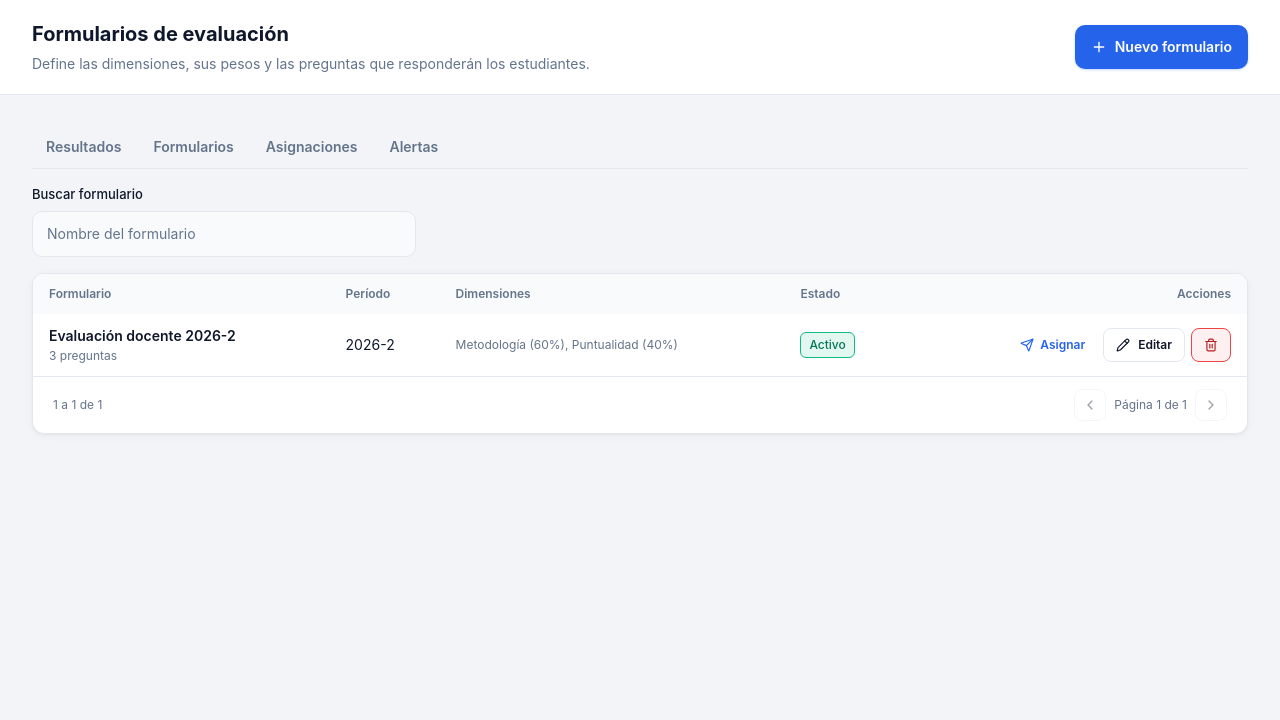
Scenario: Formularios de evaluación (RF-28 a RF-30) › edita un formulario y muestra el error del servidor
Click the button with aria-label "Editar Evaluación docente 2026-2". click: (1144, 344)
box: [1103,328,1185,362]
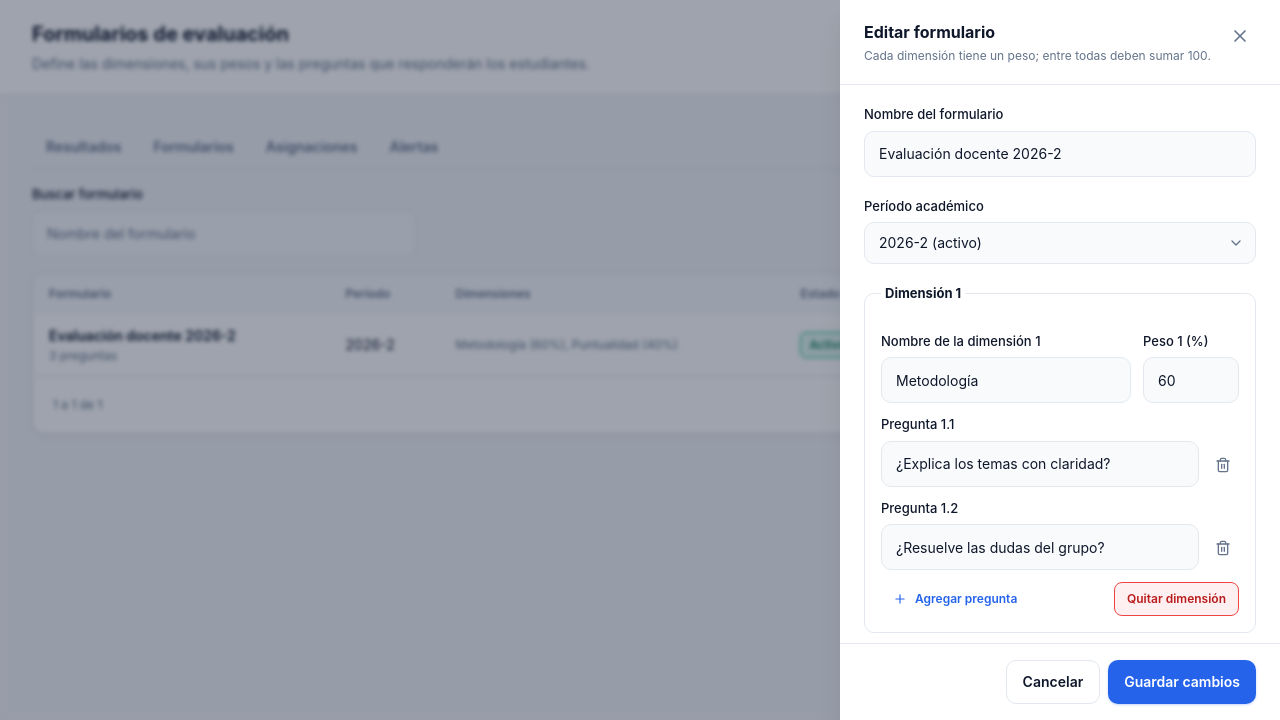
Click the button "Guardar cambios". click: (1182, 682)
box: [1108,660,1256,704]
(page scrolled)
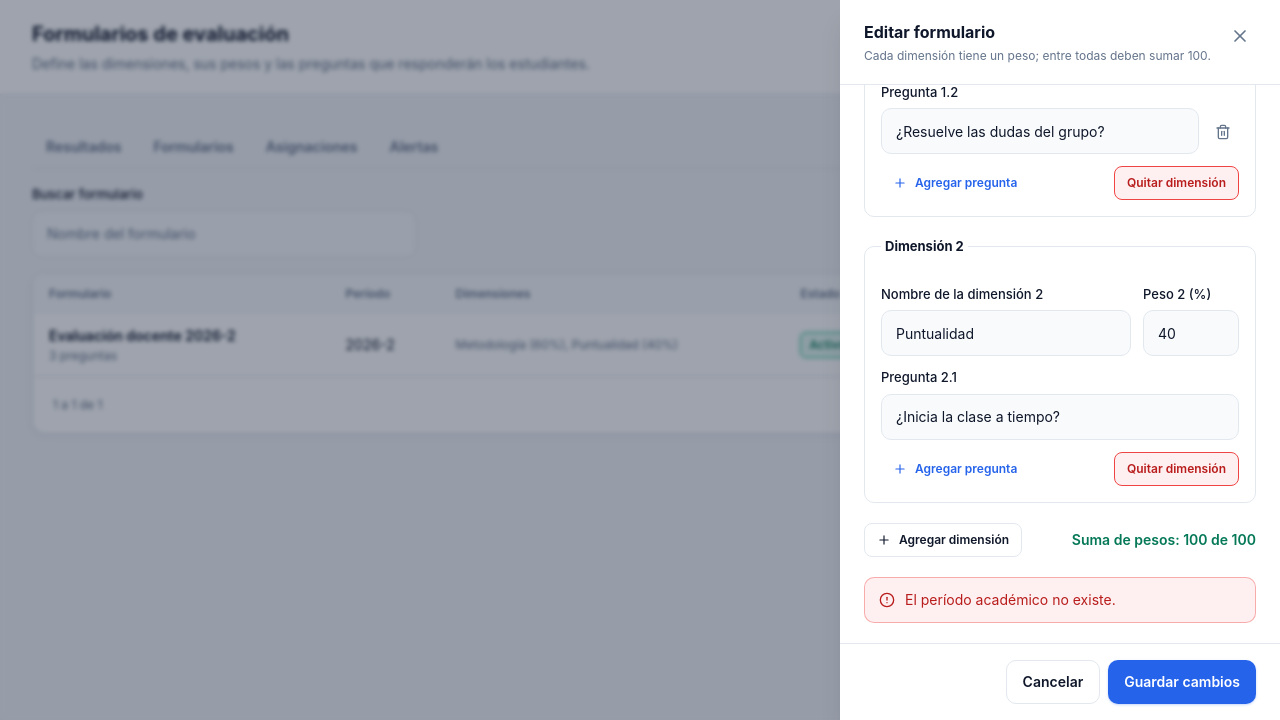
Expected: the text "El período académico no existe." is shown, [905,590,1116,610]
